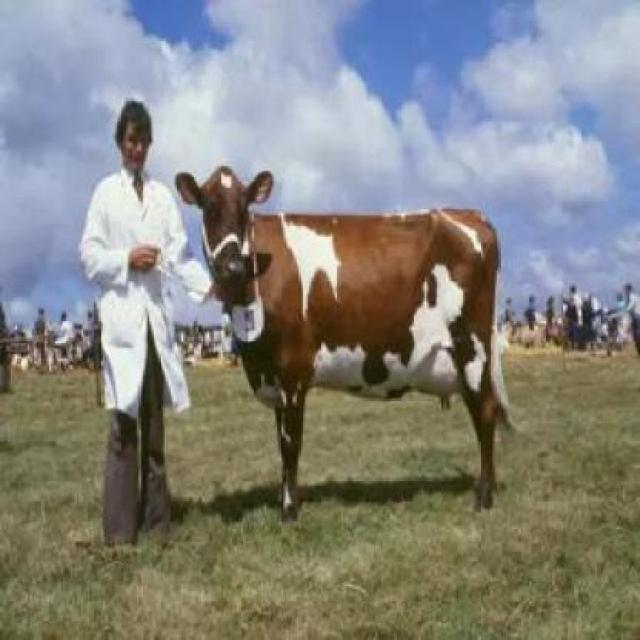Cow: (171, 163, 520, 528)
